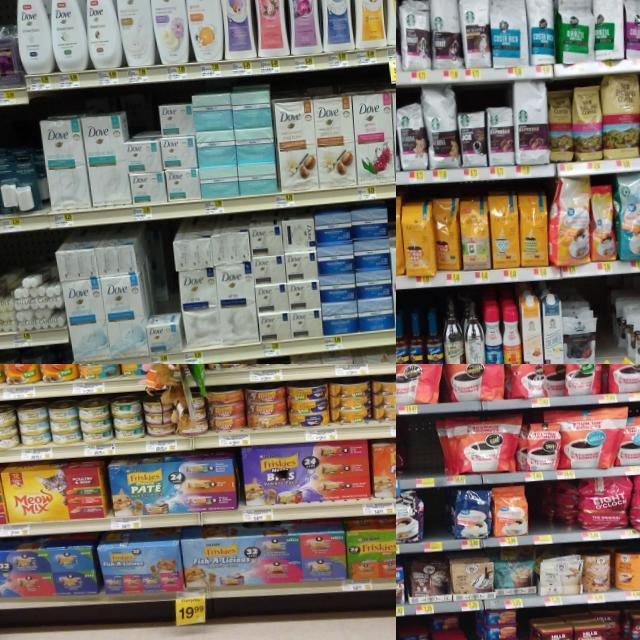empty: (406, 420, 438, 488), (420, 488, 450, 552), (594, 285, 617, 364), (528, 482, 552, 546)
